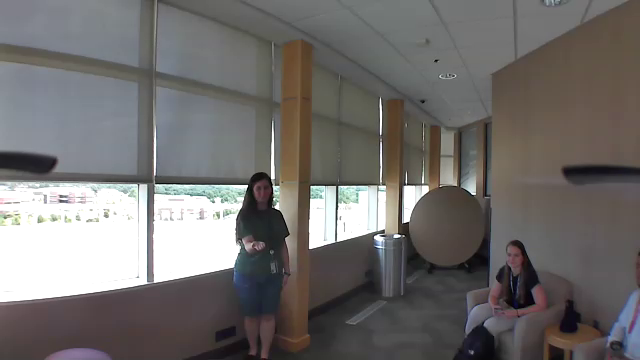land: (249, 239, 268, 253)
